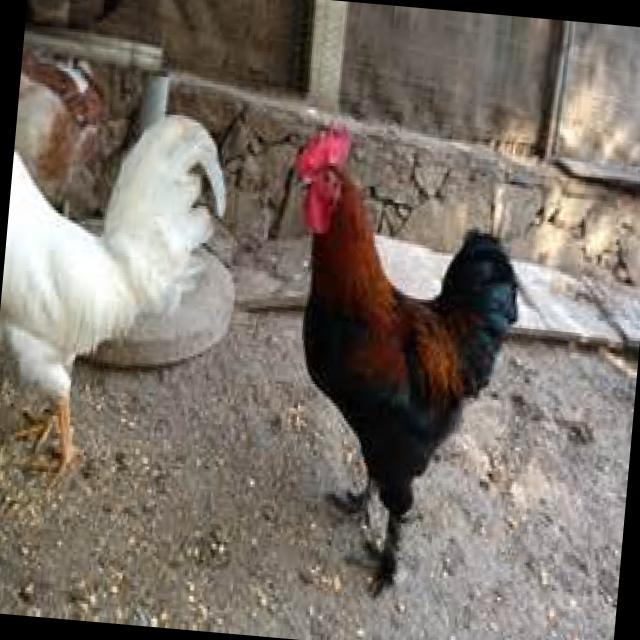animal: (261, 128, 534, 608), (0, 98, 231, 476)
